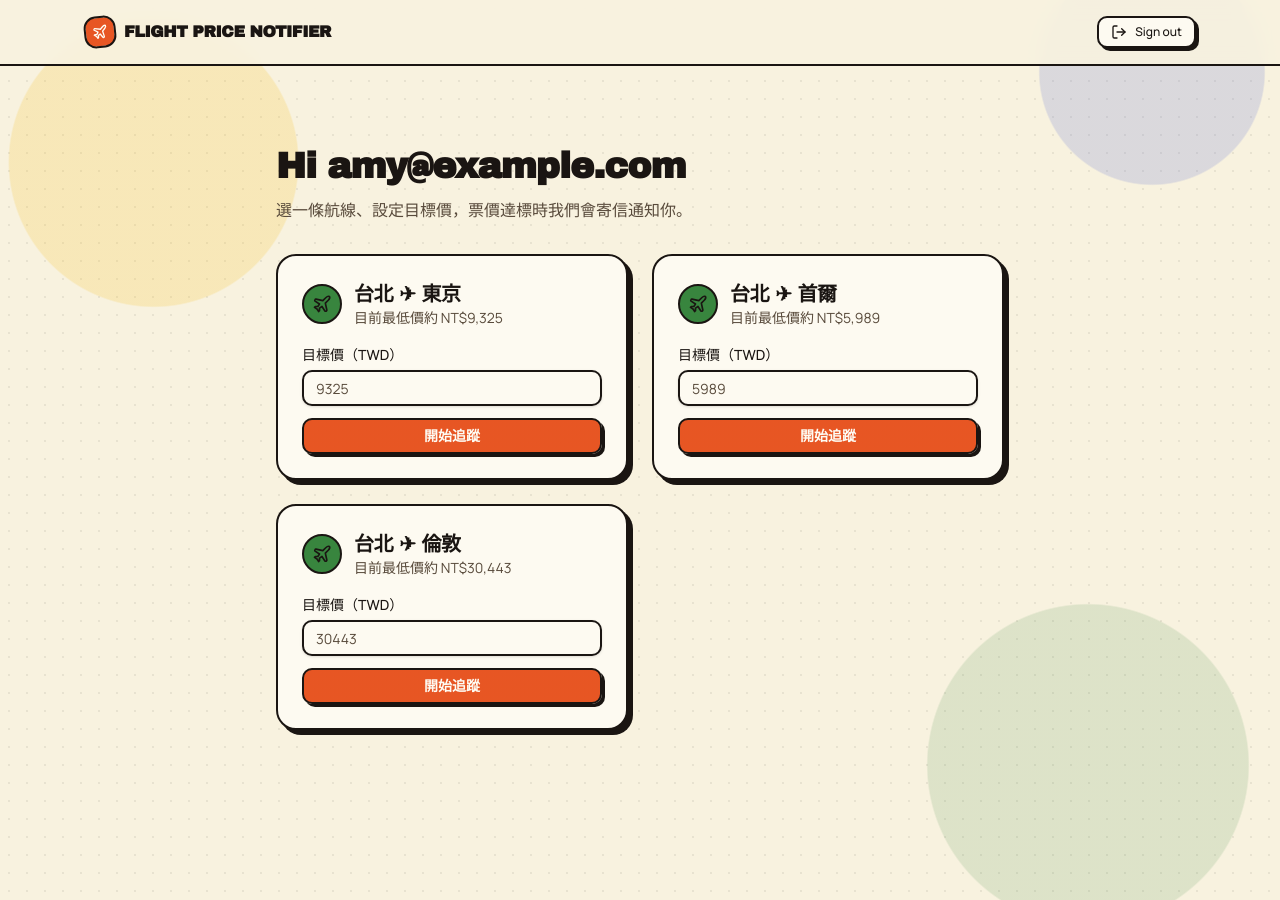
Scenario: Dashboard plan cards › blocks a zero target before sending
In the field labelled "目標價（TWD）" below "NT$9,325": (452, 388) x1=302 y1=370 x2=602 y2=406, type "0"
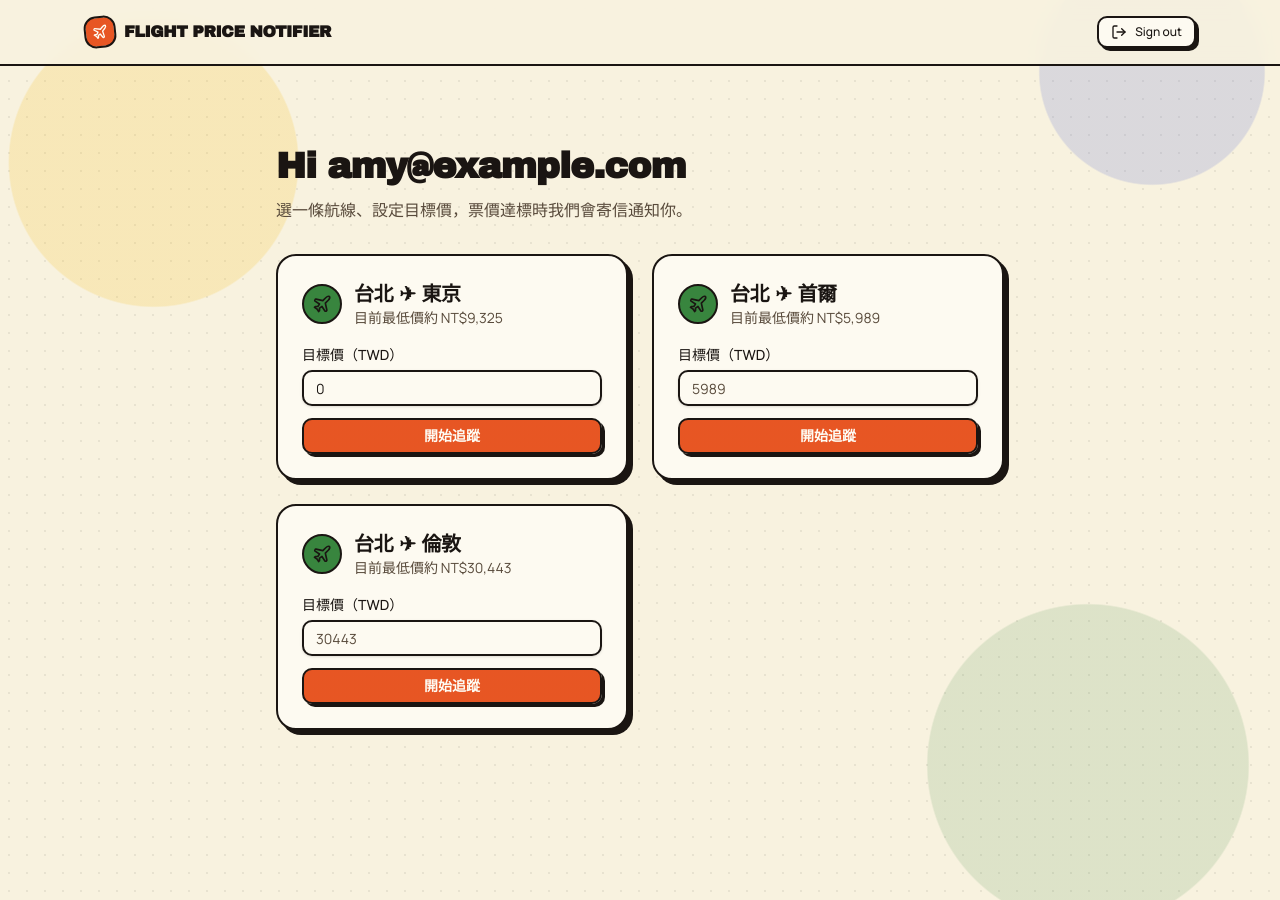
Click the button "開始追蹤" below "NT$9,325": click(452, 436) x1=302 y1=418 x2=602 y2=454
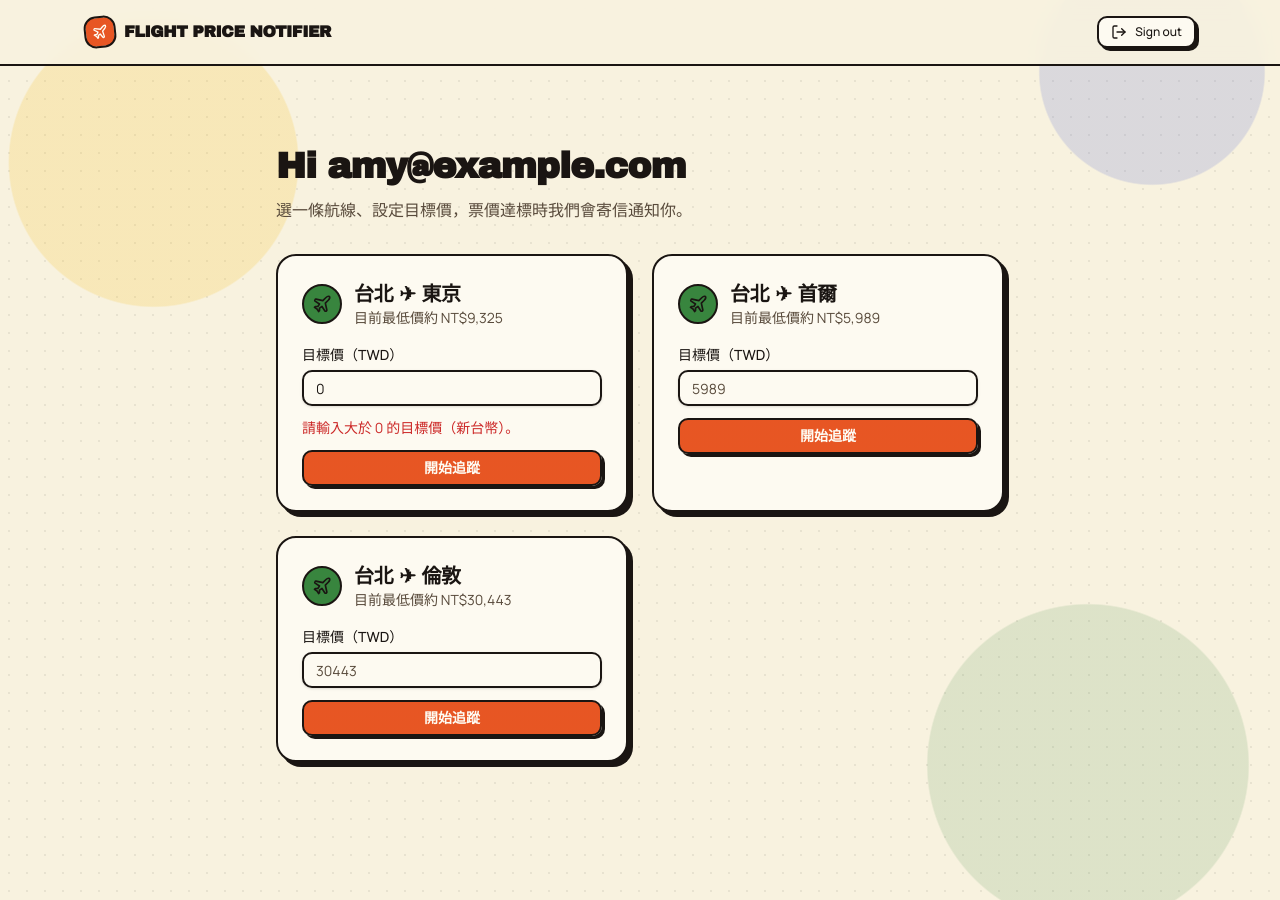
expect the message shows "大於 0": met, box x1=302 y1=418 x2=519 y2=437
